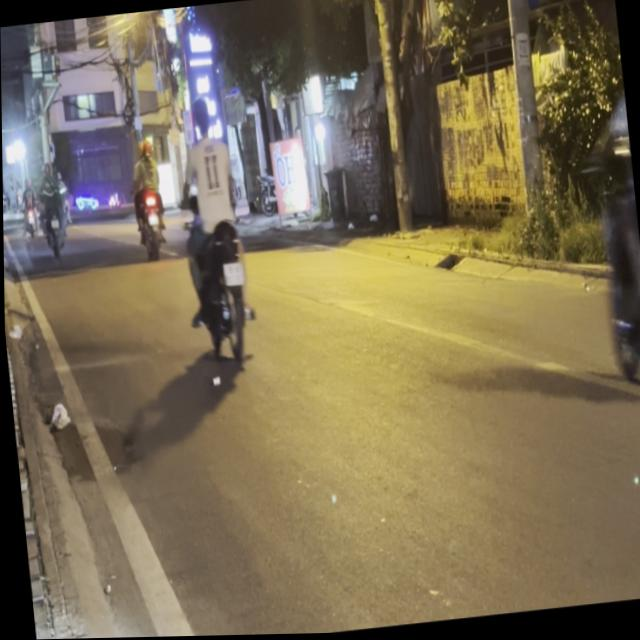licenseplate: (571, 18, 640, 420), (167, 88, 261, 374)
motorcyclist: (188, 93, 215, 141)
nohelmet: (223, 261, 245, 285)
